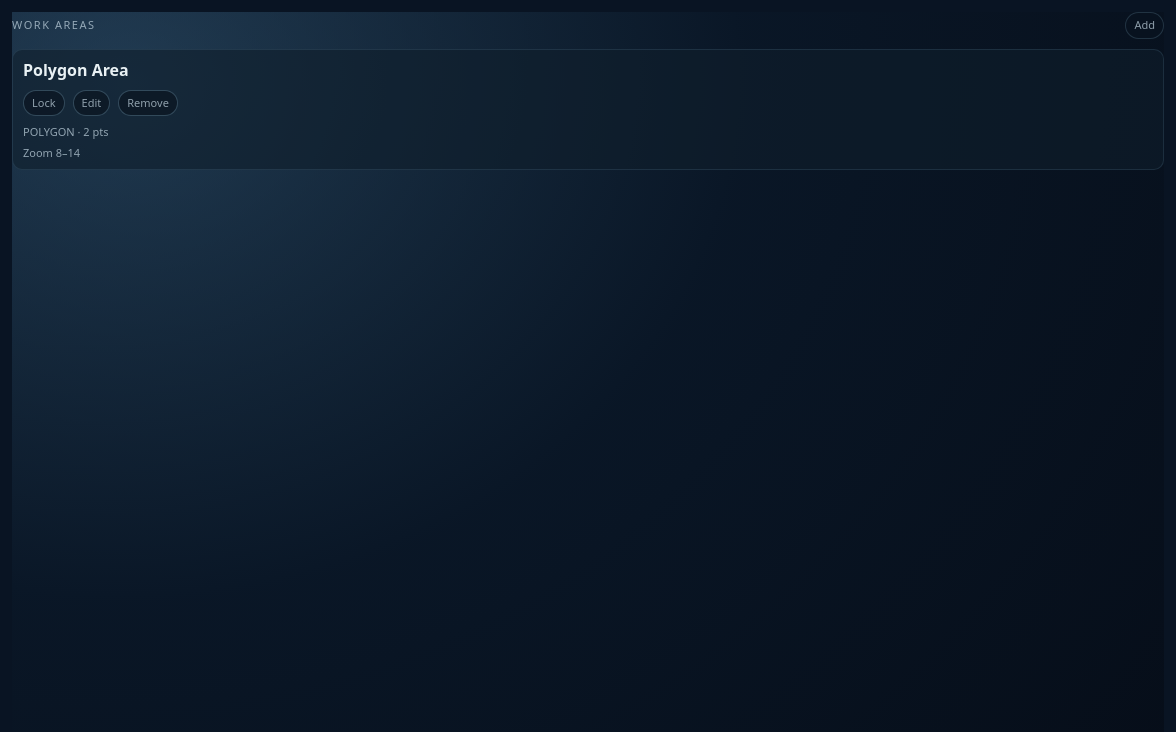
EditorWorkAreaEditor › renders polygon bounds hint
Click the button "Edit": [91, 103] box [73, 90, 110, 116]
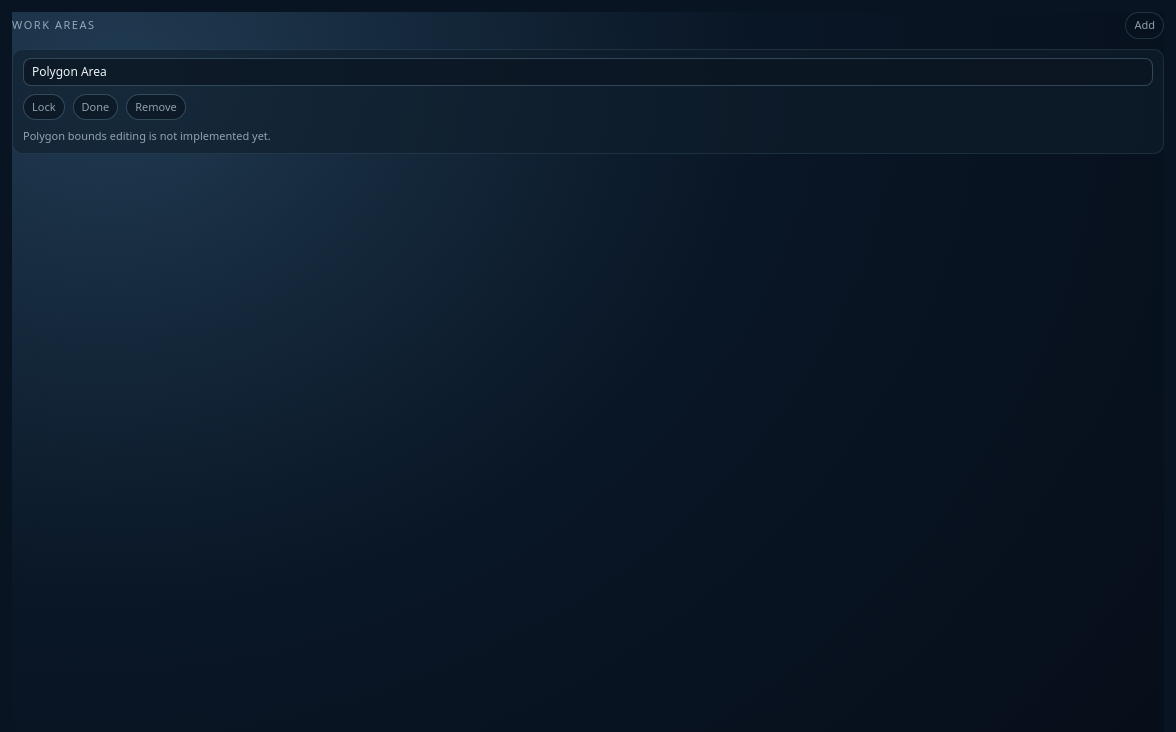
Check: the text "Polygon bounds editing is not implemented yet." is shown, box [23, 128, 271, 143]
